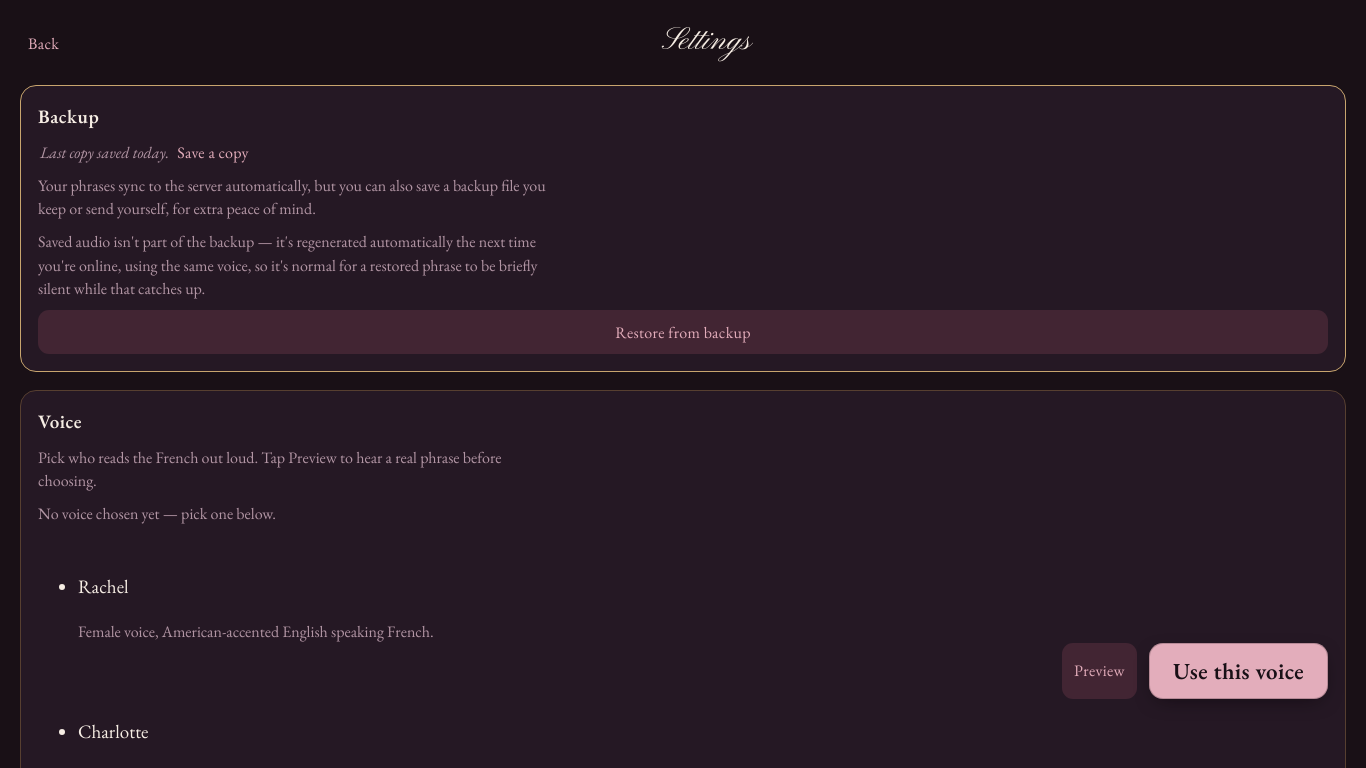
SettingsScreen › voice picker › says, before committing, that the audio the user already has is kept — never that everything will be made again
Click the button with test id "voice-choose-voice-rachel".
click(1238, 671)  # box [1149, 643, 1328, 699]
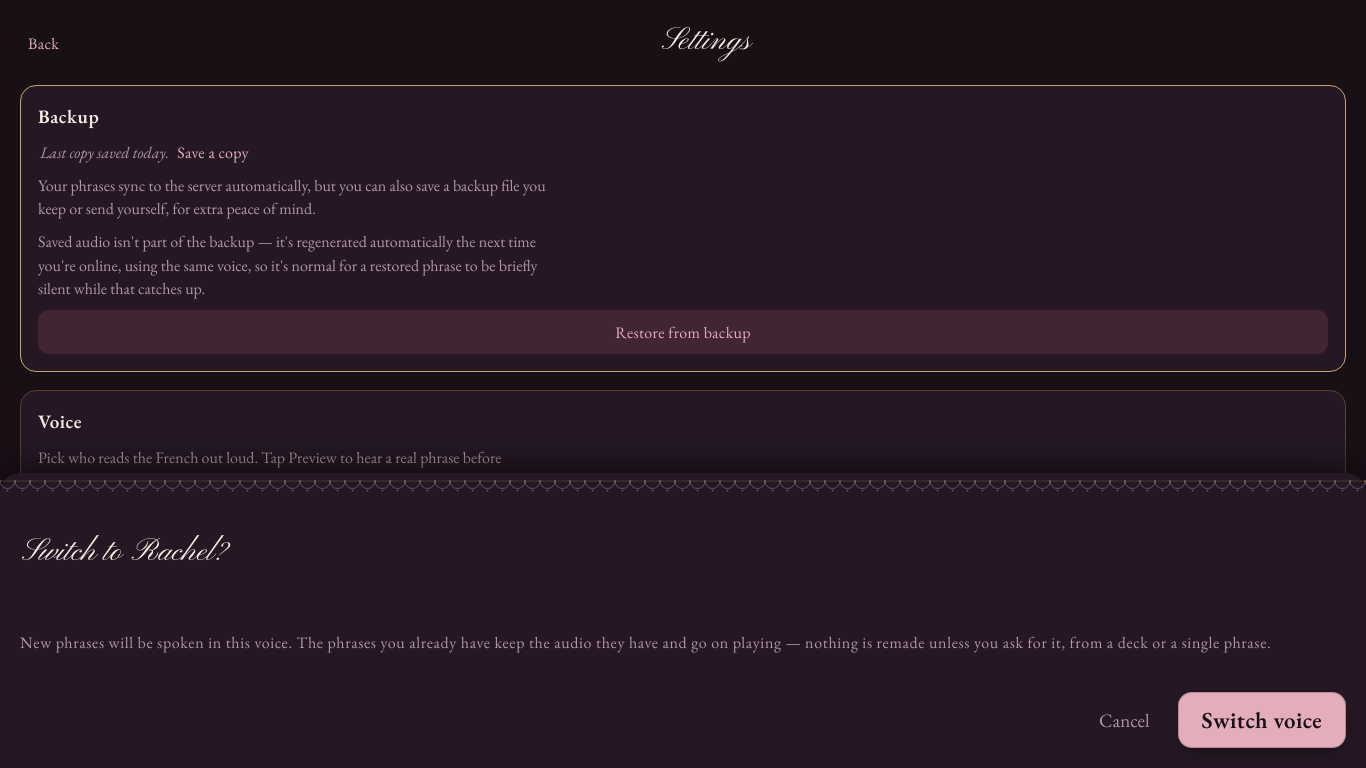
Now the element with test id "voice-confirm-sheet" is shown, box [0, 473, 1365, 767]
Now the element with test id "voice-confirm-sheet" shows "New phrases", box [20, 632, 1271, 653]
